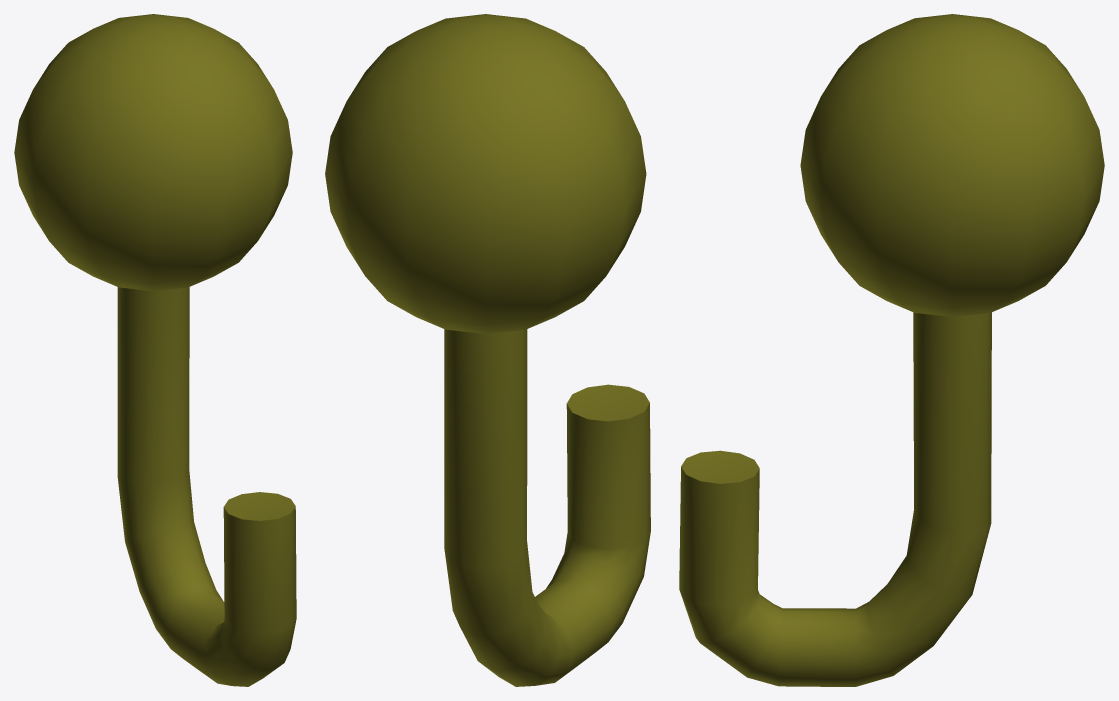
The model's file is Gancho.fbx.
3 views of the same model, side by side, from view 1: azimuth 30°, elevation 25°; view 2: azimuth 150°, elevation 25°; view 3: azimuth 270°, elevation 25° (orthographic). The views are drawn at different scales.
Visible parts, largest first — view 1: Gancho; view 2: Gancho; view 3: Gancho.
Boxes of the visible parts, box(x1,y1,x2,y2) form: Gancho: box(14, 14, 296, 686); Gancho: box(325, 14, 650, 686); Gancho: box(679, 14, 1104, 686).
Size of the model in its own units: 56.04 by 133 by 78.36.
